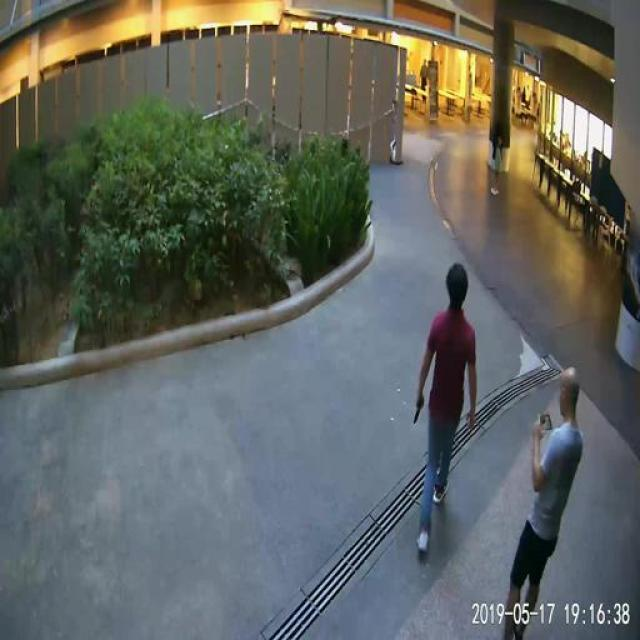Gun: (397, 385, 432, 440)
